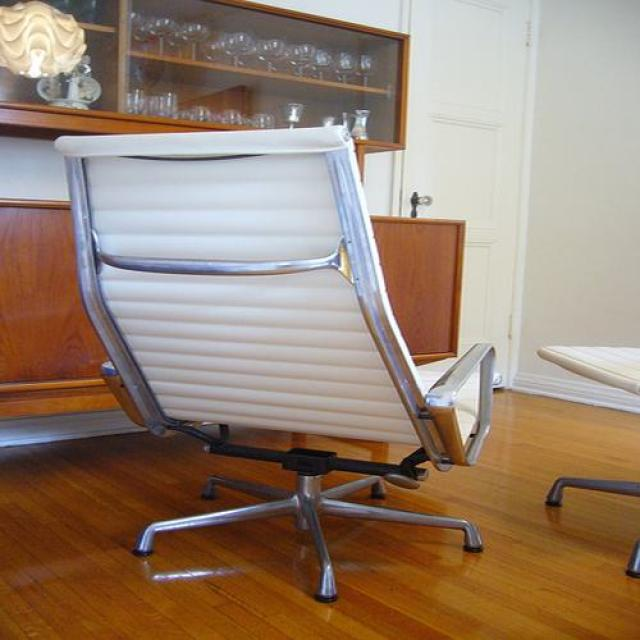swivelchair: (54, 125, 495, 603)
